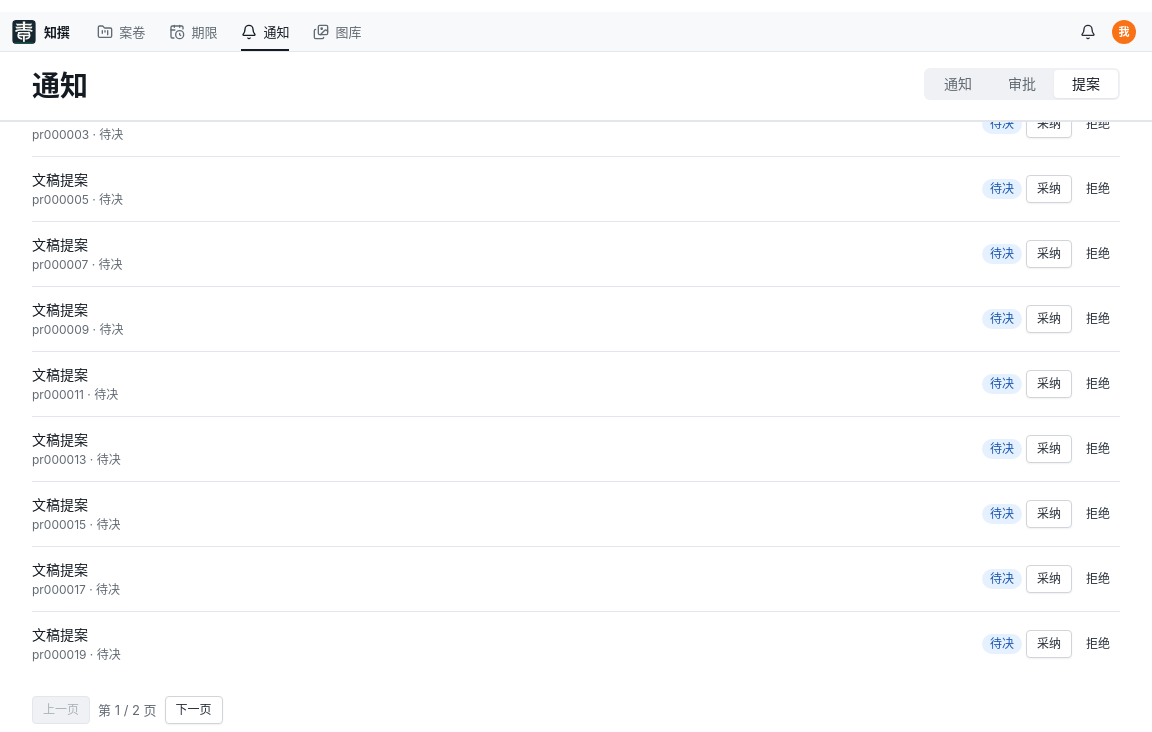
it: M2 inbox 页签：#/inbox?tab= 并入审批与提案 › 点「采纳」→ POST mutation 真实生效：状态徽标变化 + 筛选口径 total 缩小 + 失效全部页
(page scrolled)
Click the button "下一页": [194, 710] box [165,696,223,724]
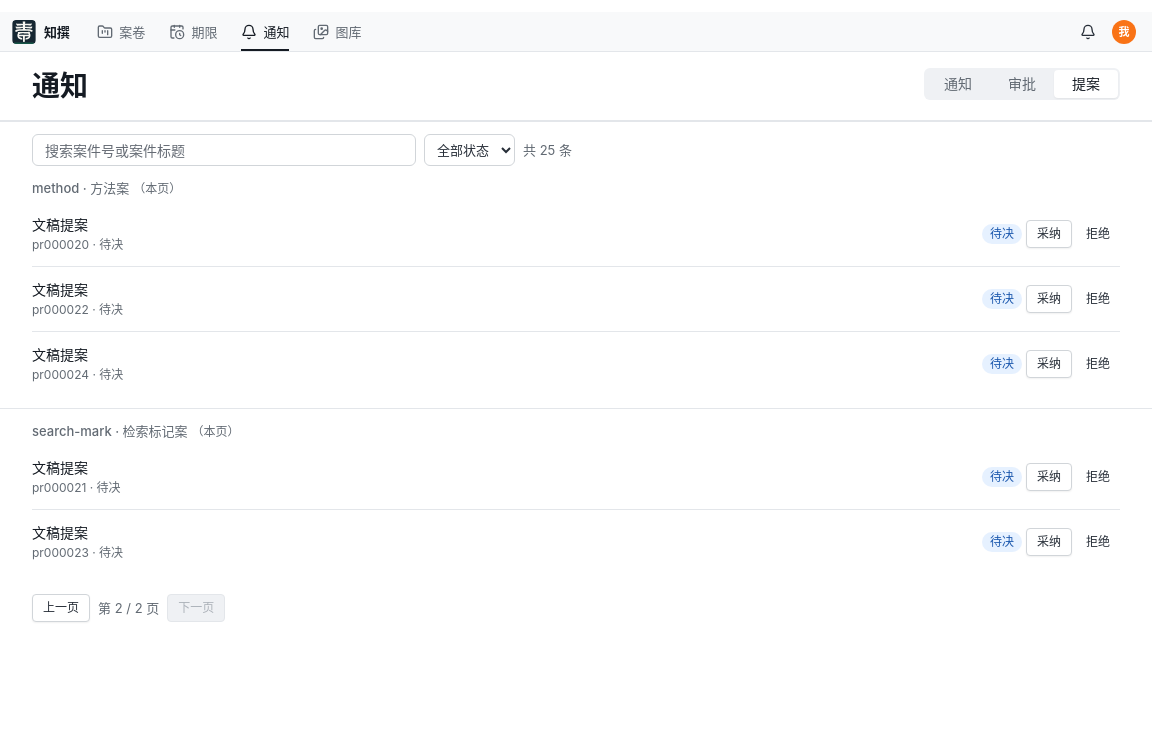
Result: the element with test id "inbox-pager" shows "第 2 / 2 页" at [32,594,225,622]
Result: the list item with test id "inbox-proposal-pr000024" is shown at [32,346,1120,382]
Result: the button "上一页" is enabled
Click the button "上一页": [61, 608] box [32,594,90,622]
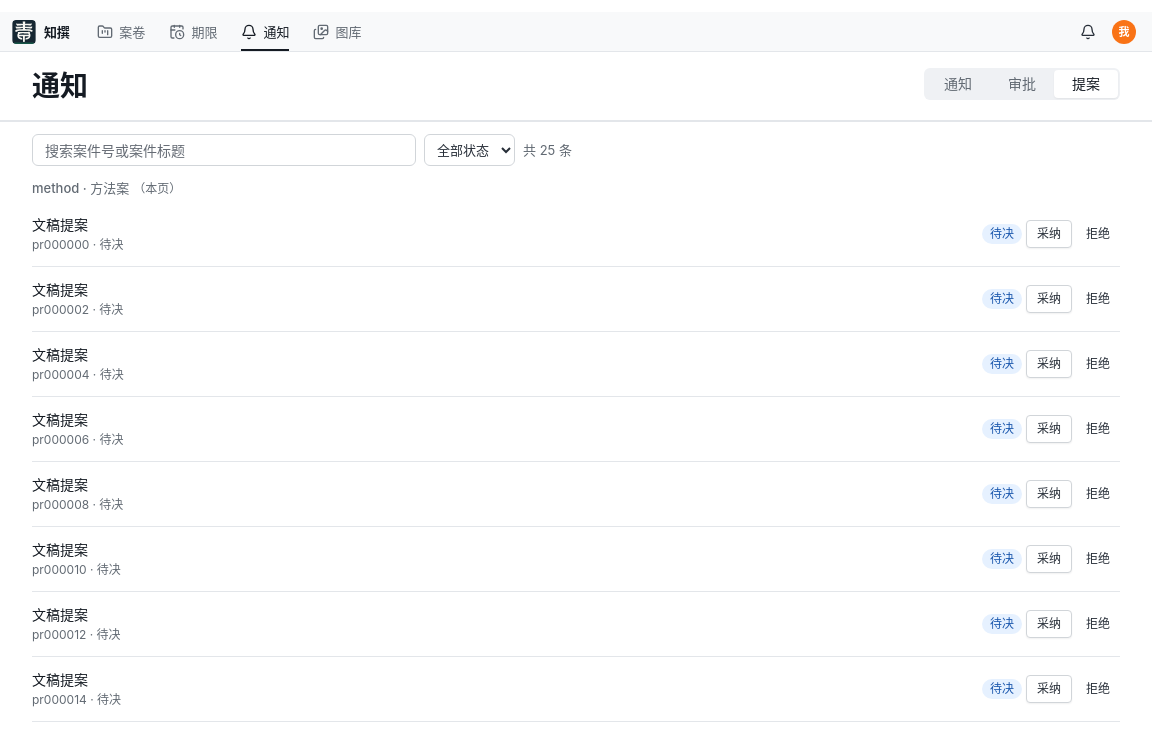
Result: the list item with test id "inbox-proposal-pr000000" is shown at [32,202,1120,267]
Click the button "采纳" in the row of "pr000000": [1049, 234] box [1026,220,1072,248]
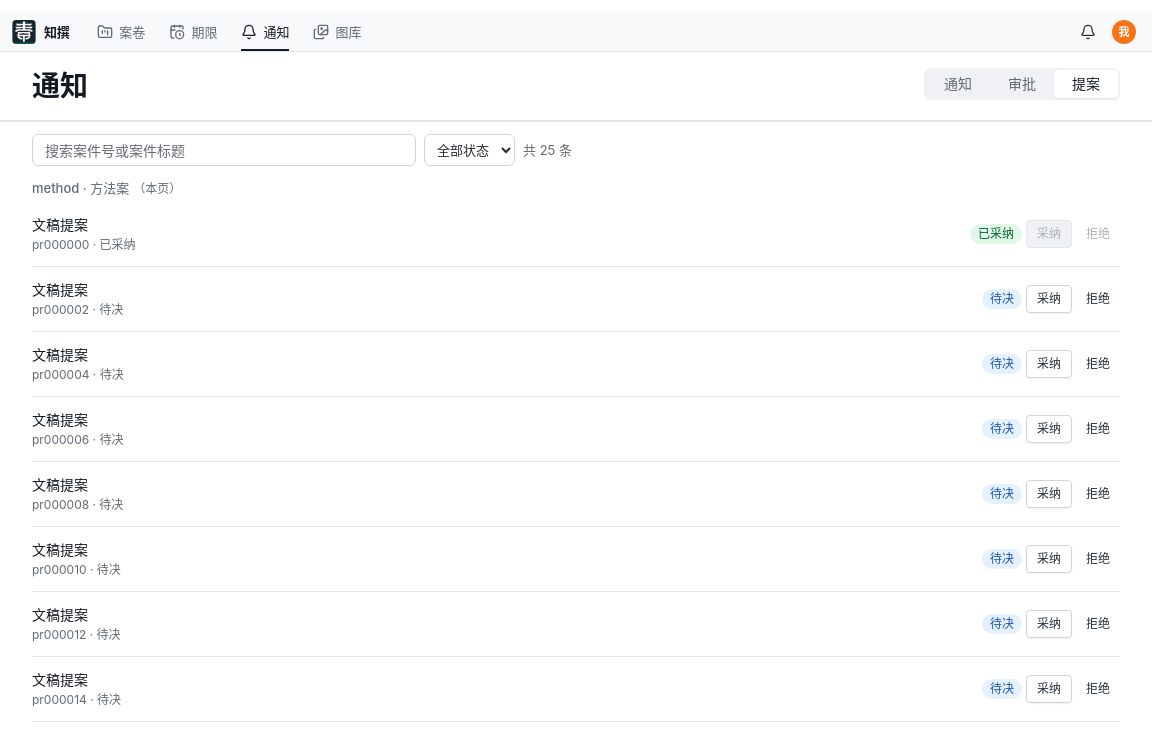
Result: the list item with test id "inbox-proposal-pr000000" shows "已采纳" at [100,237,136,252]
Select "待决" in the dropdown named "提案状态": [470, 150] box [424,134,515,166]
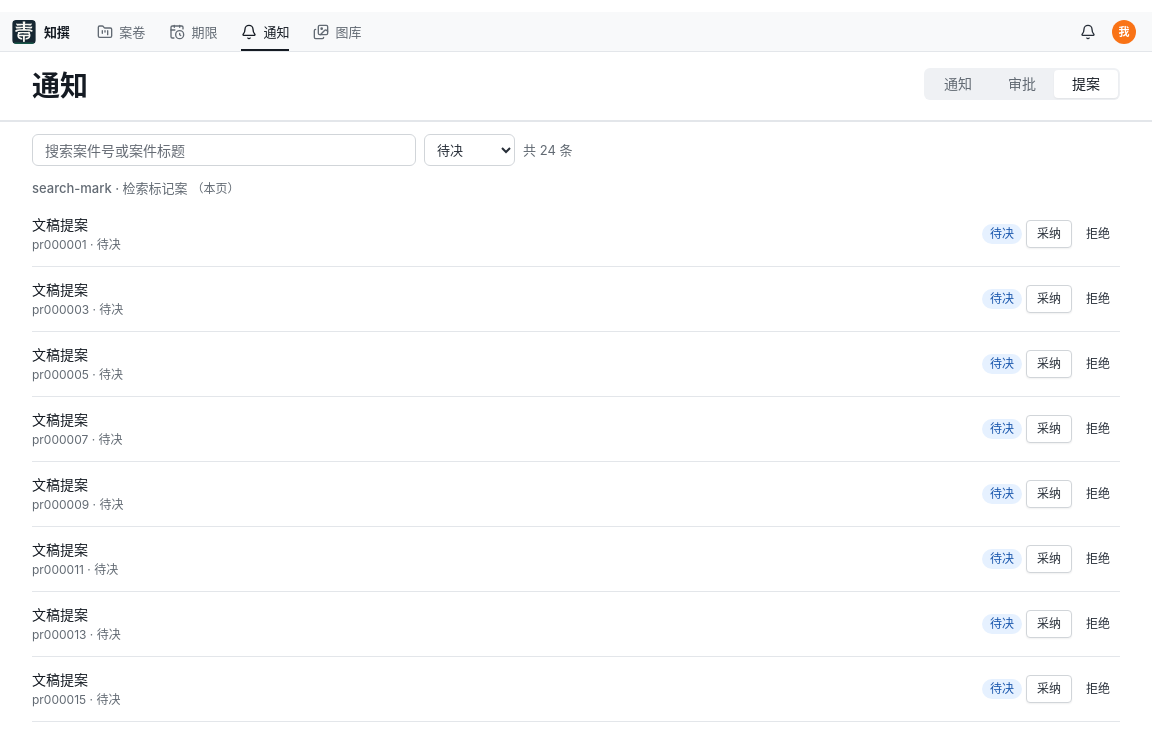
Result: the text with test id "inbox-proposals-total" reads "共 24 条" at [523,140,572,160]
Result: the list item with test id "inbox-proposal-pr000000" is gone
Select "全部状态" in the dropdown named "提案状态": [470, 150] box [424,134,515,166]
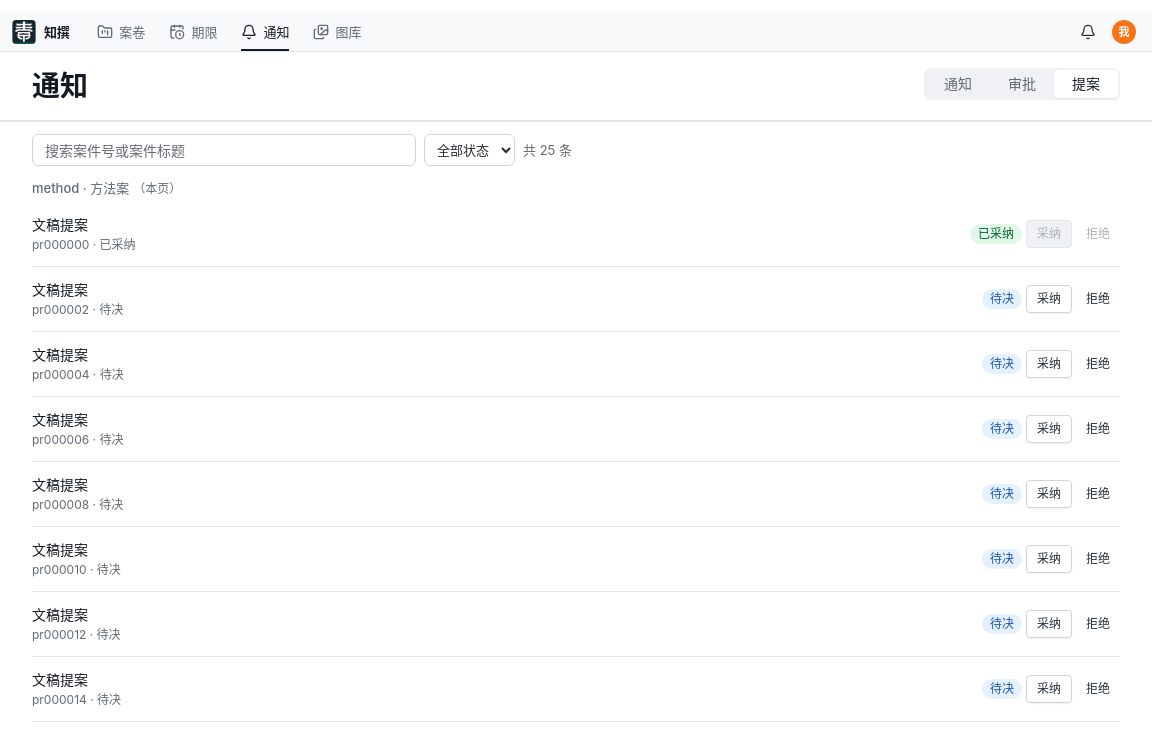
Result: the text with test id "inbox-proposals-total" reads "共 25 条" at [523,140,572,160]
